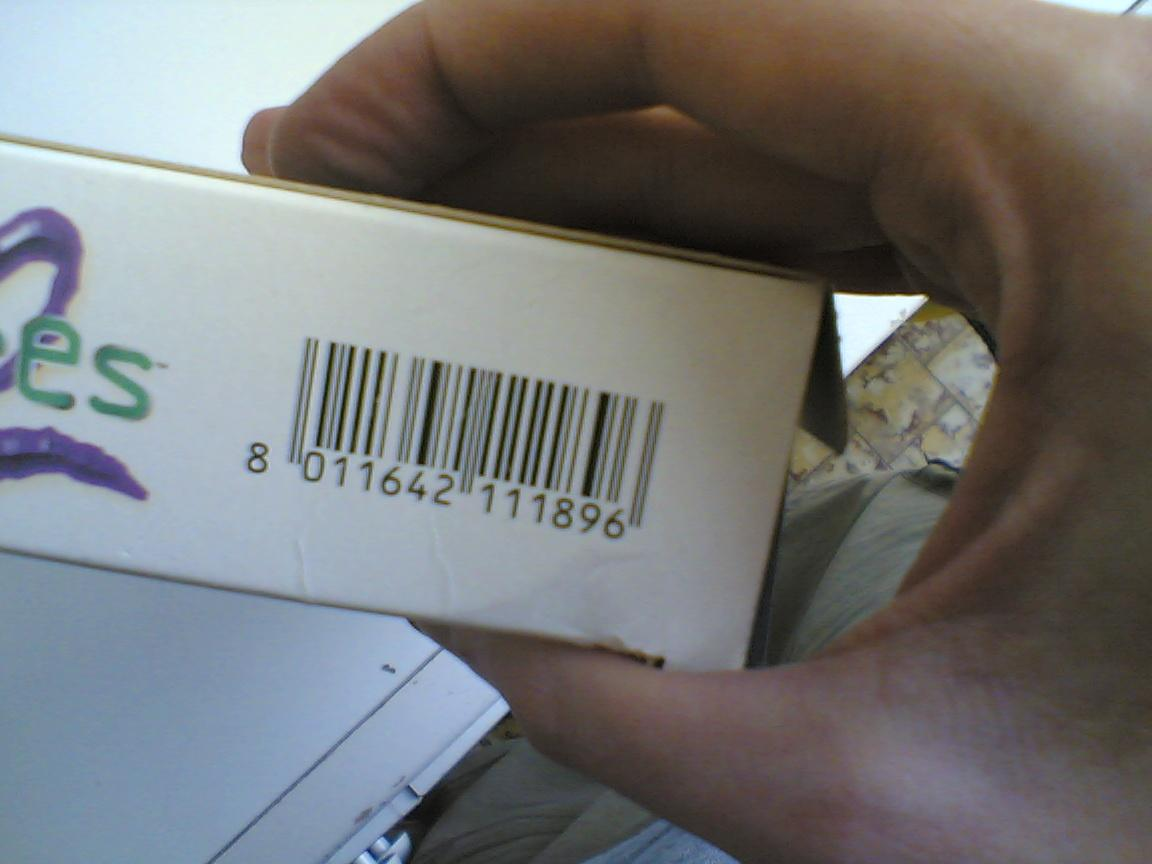Barcode: (206, 291, 723, 558)
